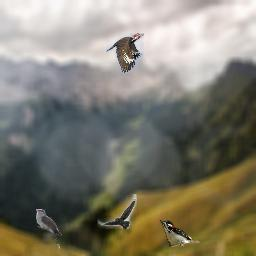Crow: (97, 194, 137, 229)
Cuckoo: (36, 209, 62, 249)
Woodpecker: (106, 33, 144, 73), (160, 219, 200, 247)
